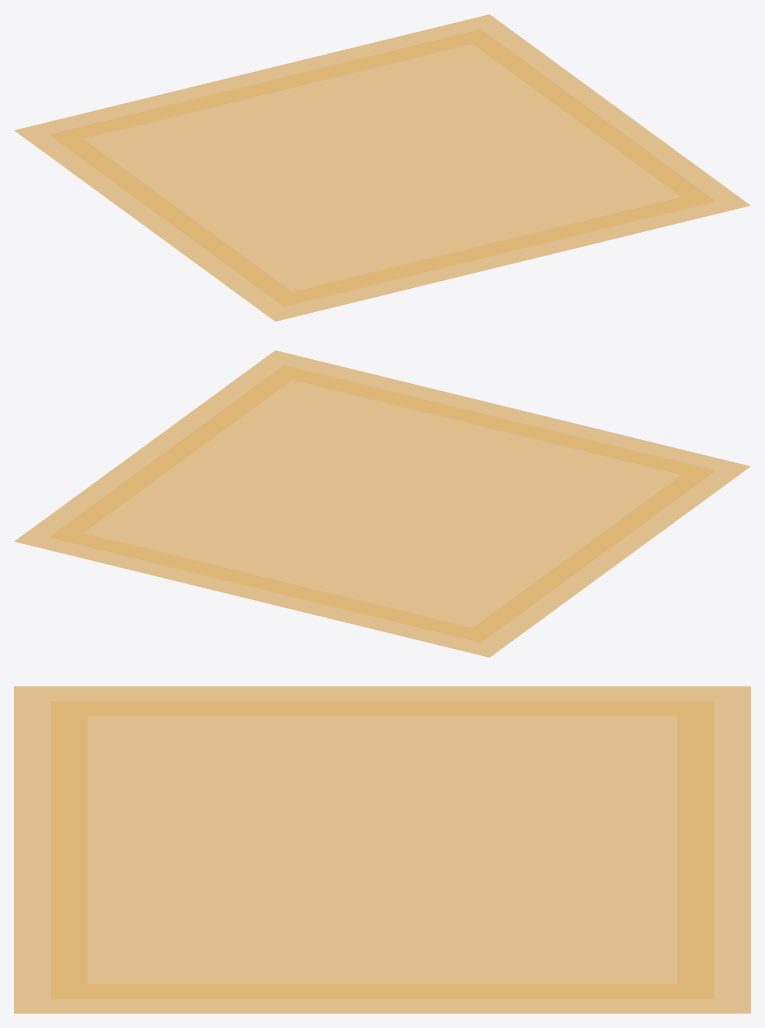
Rendered from Alfombra01.fbx.
The picture shows the model from 3 angles, top to bottom: view 1: azimuth 30°, elevation 25°; view 2: azimuth 150°, elevation 25°; view 3: azimuth 270°, elevation 25°; orthographic projection. The views are drawn at different scales.
Visible parts, largest first — view 1: Alfombra01; view 2: Alfombra01; view 3: Alfombra01.
Part boxes in pixels (x1,y1,x2,y2): Alfombra01: (14,14,750,321); Alfombra01: (14,350,750,657); Alfombra01: (14,686,750,1013).
Bounding box in the file's own units: 265 × 0 × 252.
